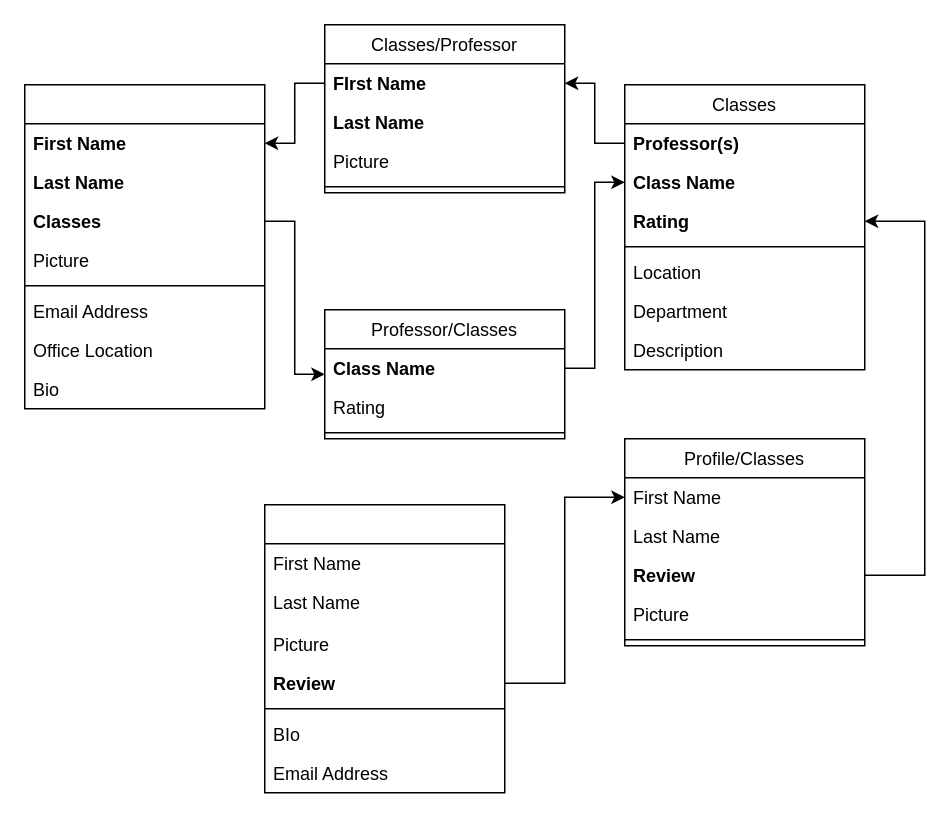
This 950x818 diagram has some shape labels left out. The shapes that lost their labels are listed below. From the top down, each one's box as (x1, y1, x2, y2) in pixels, then its label:
(23, 83, 265, 409): Professor
(263, 503, 505, 793): Profile
